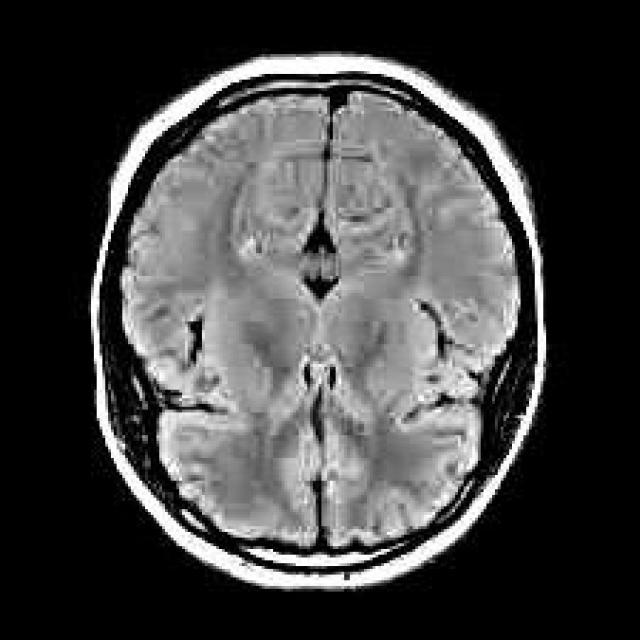notumor: (91, 54, 549, 597)
